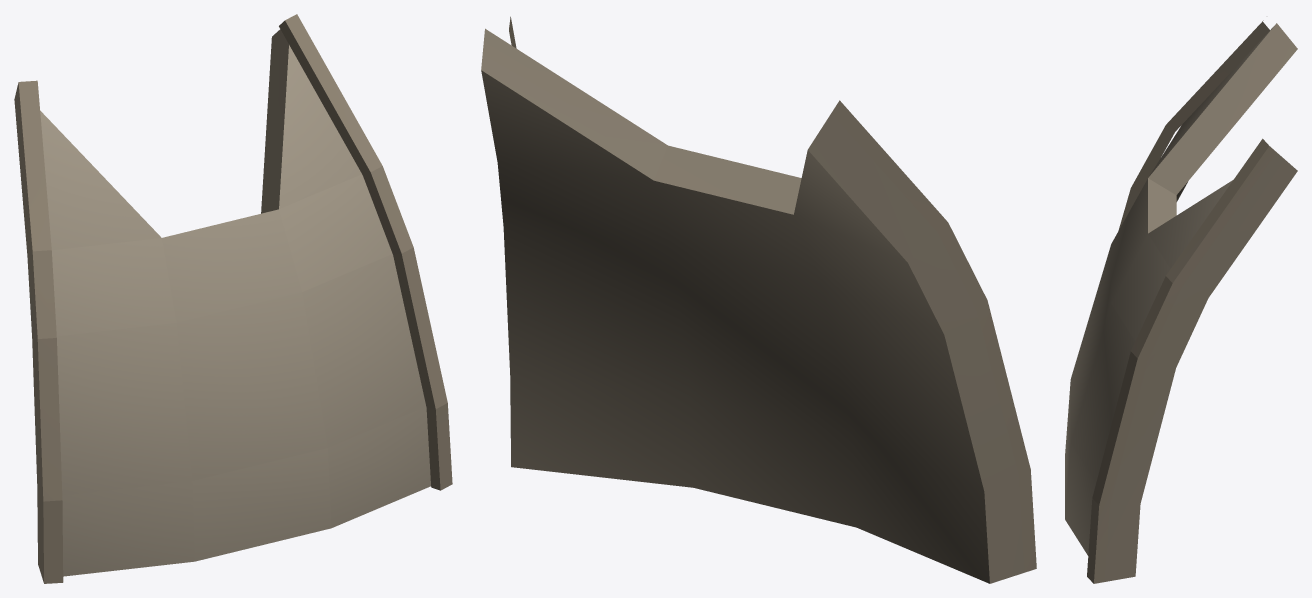
The model's file is dome.panel_8_broken.stone.glb.
3 renders of one model, left to right at view 1: azimuth 30°, elevation 25°; view 2: azimuth 150°, elevation 25°; view 3: azimuth 270°, elevation 25°, orthographic. The views are drawn at different scales.
Parts seen in each view (by area): view 1: dome_panel_8_broken_stone; view 2: dome_panel_8_broken_stone; view 3: dome_panel_8_broken_stone.
Part boxes in pixels (x1,y1,x2,y2): dome_panel_8_broken_stone: (14, 14, 452, 583); dome_panel_8_broken_stone: (481, 16, 1036, 583); dome_panel_8_broken_stone: (1065, 20, 1297, 583).
Size of what is drawn, in the model's own units: 2.73 by 2.68 by 1.39.
